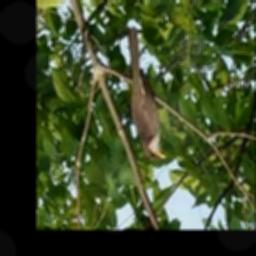Cuckoo: (127, 27, 167, 160)
